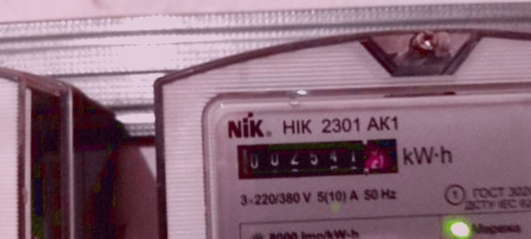0: (245, 147, 259, 169), (266, 145, 279, 166)
1: (345, 143, 357, 163)
2: (286, 145, 299, 165)
4: (326, 143, 339, 164)
5: (305, 143, 318, 166)
6: (368, 154, 379, 170)
screen: (225, 127, 408, 187)
